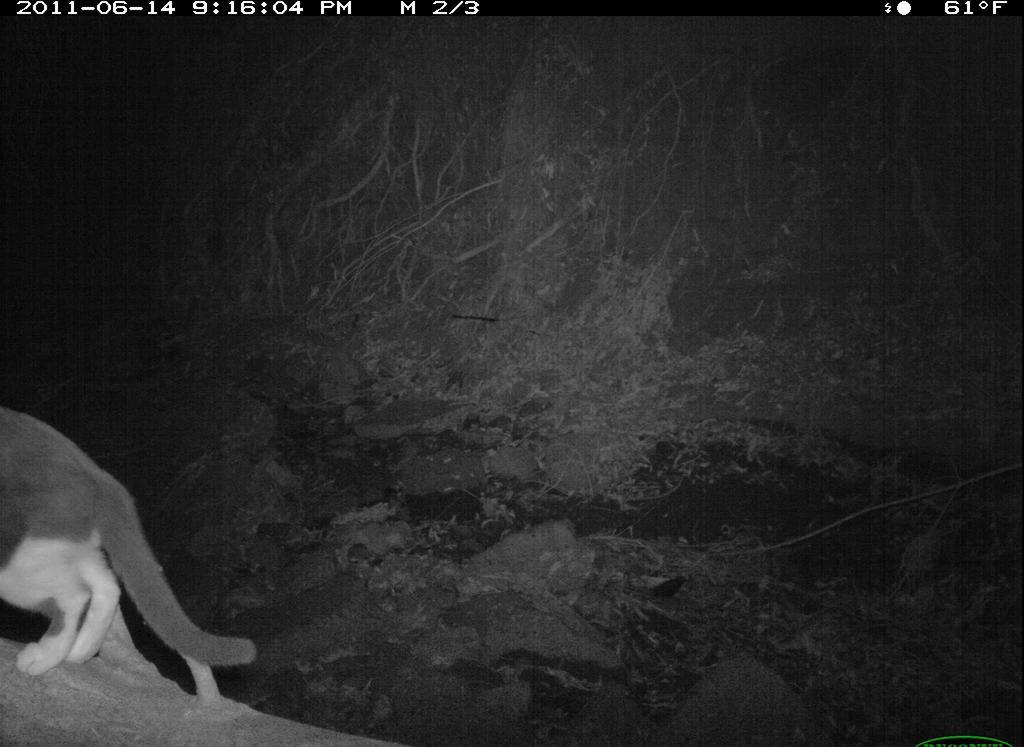cat: (1, 399, 262, 704)
